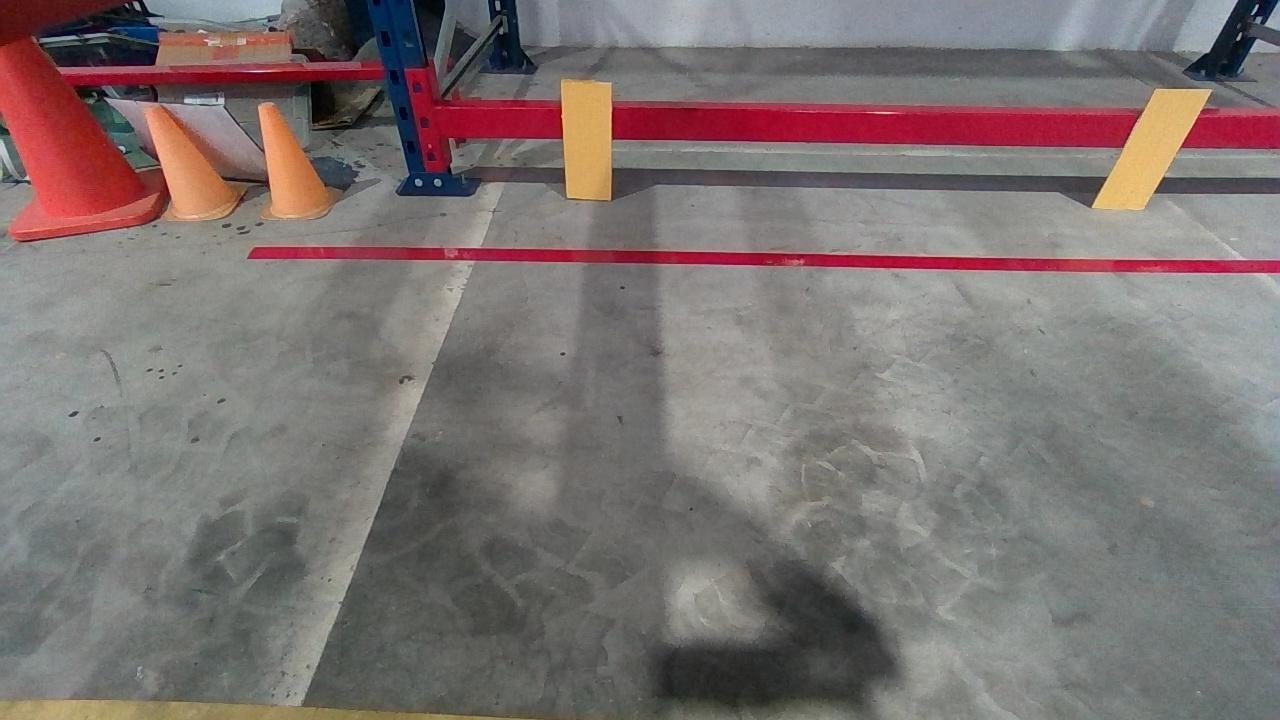h_rack: (444, 108, 1278, 150)
orange_strip: (1091, 86, 1210, 210), (559, 79, 612, 195)
red_line: (244, 242, 1278, 272)
